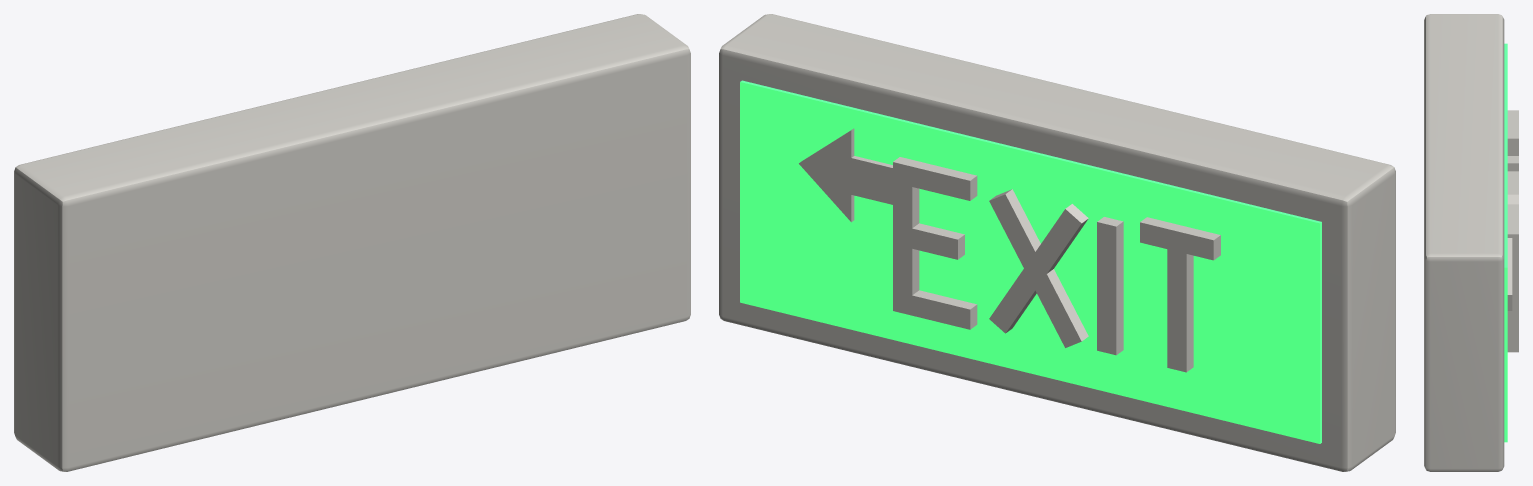
The model's file is prop_exit_sign.glb.
3 renders of one model, left to right at view 1: azimuth 30°, elevation 25°; view 2: azimuth 150°, elevation 25°; view 3: azimuth 270°, elevation 25°, orthographic. The views are drawn at different scales.
Visible parts, largest first — view 1: Sign; view 2: Sign; view 3: Sign.
Boxes of the visible parts, bbox=[...] form: Sign: bbox=[14, 14, 690, 471]; Sign: bbox=[719, 14, 1395, 471]; Sign: bbox=[1424, 14, 1518, 471].
Size of the model in its own units: 0.36 by 0.15 by 0.059.
